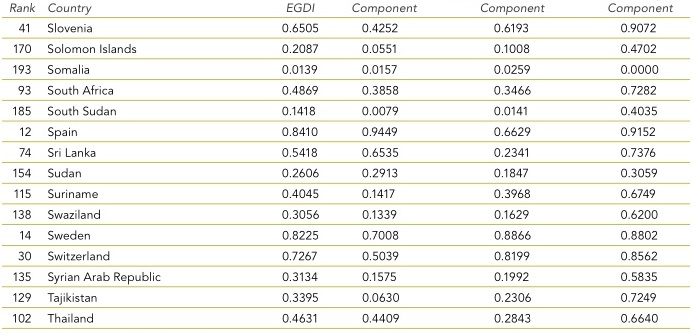column: (46, 1, 162, 333), (351, 1, 418, 333), (479, 1, 546, 333), (607, 1, 673, 333), (280, 1, 320, 333), (9, 1, 33, 333)
row: (1, 126, 694, 140), (1, 291, 694, 305), (1, 208, 694, 221), (1, 249, 694, 262), (1, 64, 694, 76), (1, 105, 694, 117), (1, 167, 694, 179), (1, 229, 694, 241), (1, 271, 694, 283), (1, 312, 694, 324), (1, 146, 692, 158), (1, 22, 694, 33), (1, 43, 694, 54), (1, 84, 694, 95), (1, 188, 694, 199), (1, 3, 693, 14)
